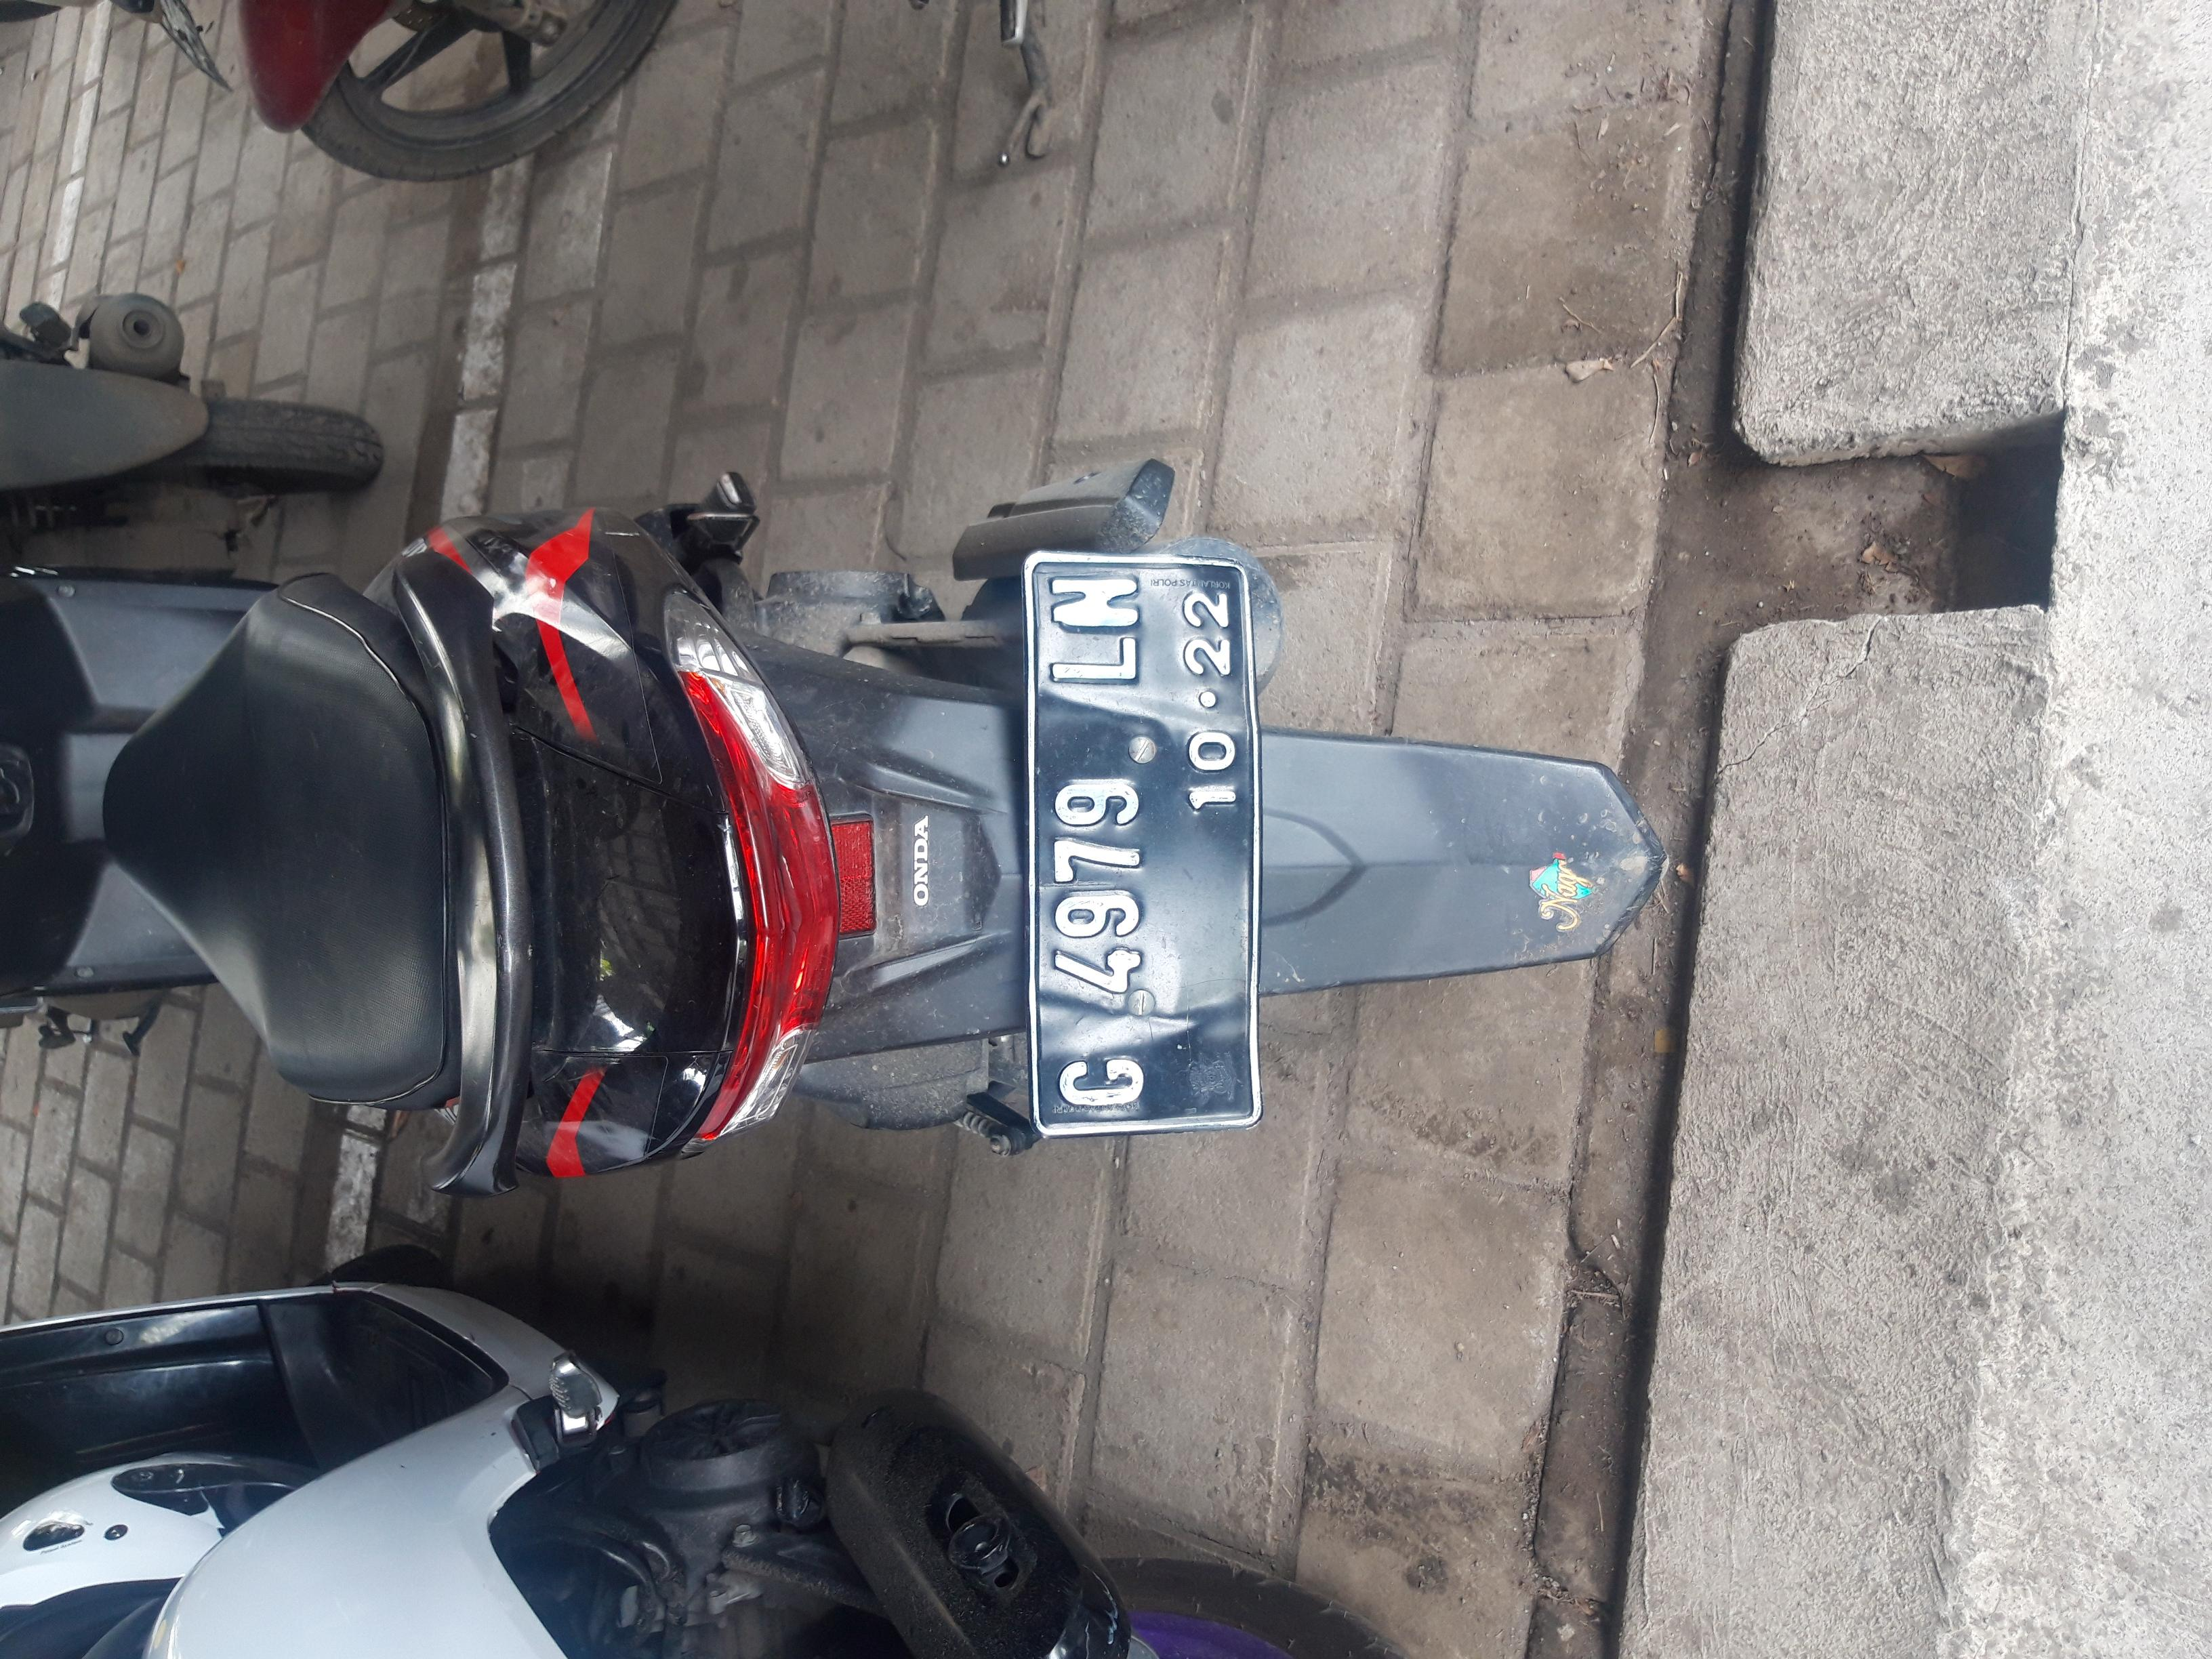plat: (697, 769, 1480, 946)
